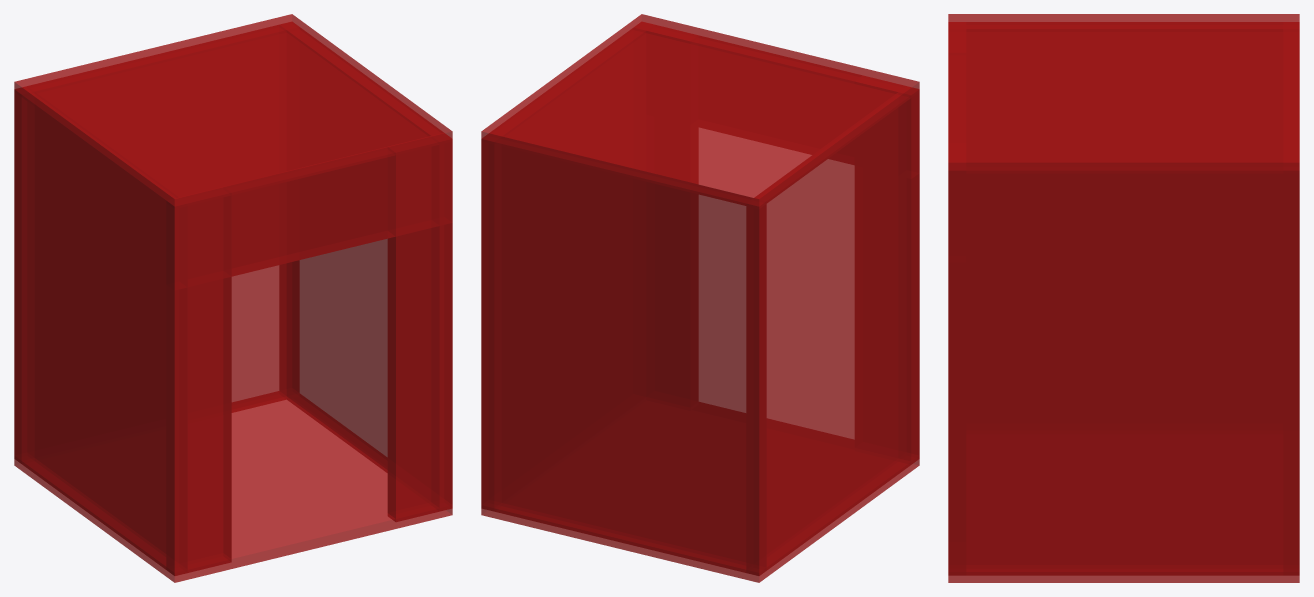
Rendered from SM_Bld_Wall_Elevator_Insert_01_Collision.fbx.
3 renders of one model, left to right at view 1: azimuth 30°, elevation 25°; view 2: azimuth 150°, elevation 25°; view 3: azimuth 270°, elevation 25°, orthographic. The views are drawn at different scales.
Visible parts, largest first — view 1: SM_Bld_Wall_Elevator_Insert_01_Collision; view 2: SM_Bld_Wall_Elevator_Insert_01_Collision; view 3: SM_Bld_Wall_Elevator_Insert_01_Collision.
Part boxes in pixels (bbox=[...]): SM_Bld_Wall_Elevator_Insert_01_Collision: bbox=[14, 14, 452, 582]; SM_Bld_Wall_Elevator_Insert_01_Collision: bbox=[481, 14, 919, 582]; SM_Bld_Wall_Elevator_Insert_01_Collision: bbox=[948, 14, 1299, 582].
Bounding box in the file's own units: 236 × 311 × 236.
